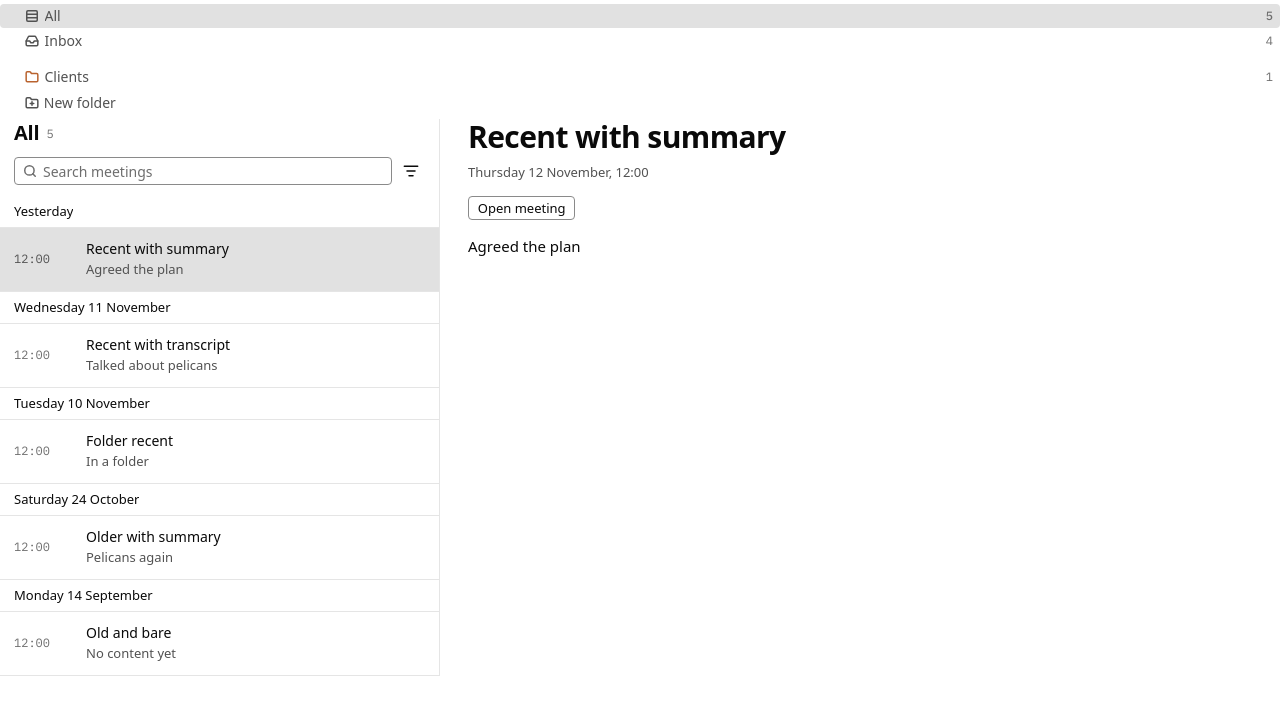
Test case: the filter button › names itself, opens a dialog with both groups, and marks nothing at first
Check: the row "12:00 Recent with summary Agreed the plan" is shown, box 0,228 -> 439,292
Click the button named "Filters". click: (411,171)
box: 397,157 -> 425,185
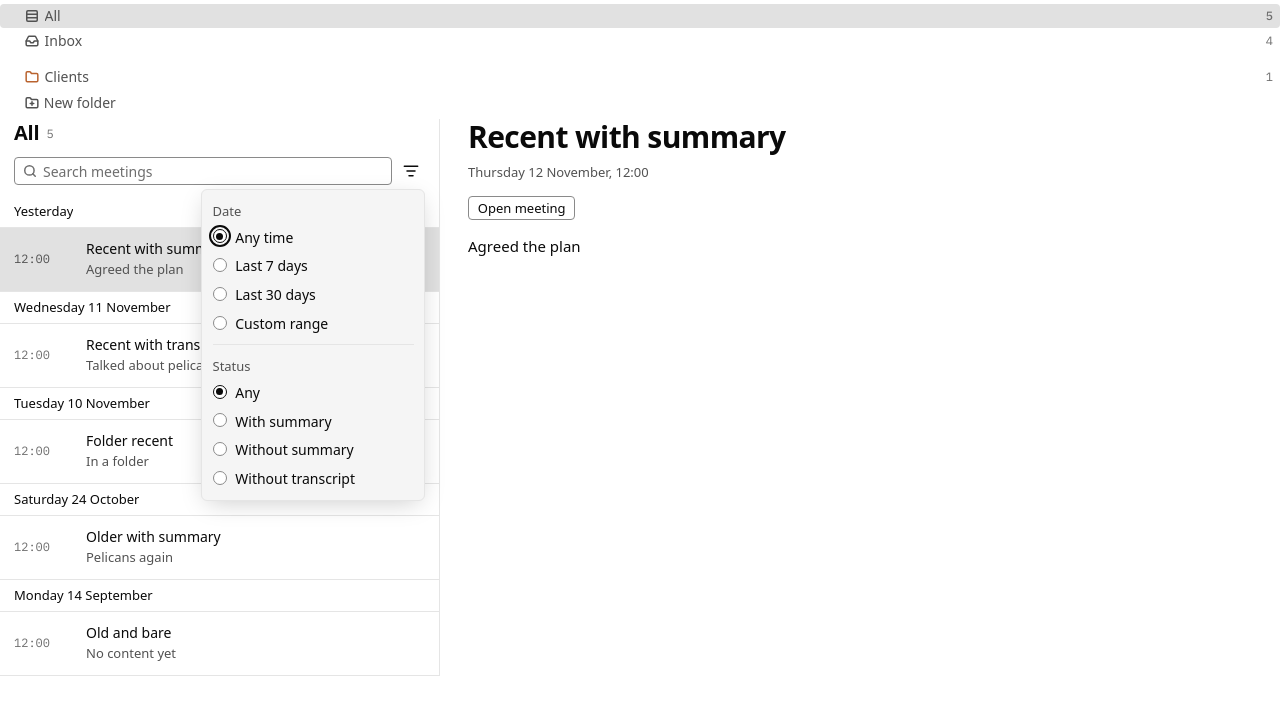
Check: the element named "Date" is shown, box 212,228 -> 414,334
Check: the element named "Status" is shown, box 212,383 -> 414,489
Check: the radio button named "Any time" next to "Any time" is checked, box 212,229 -> 226,243
